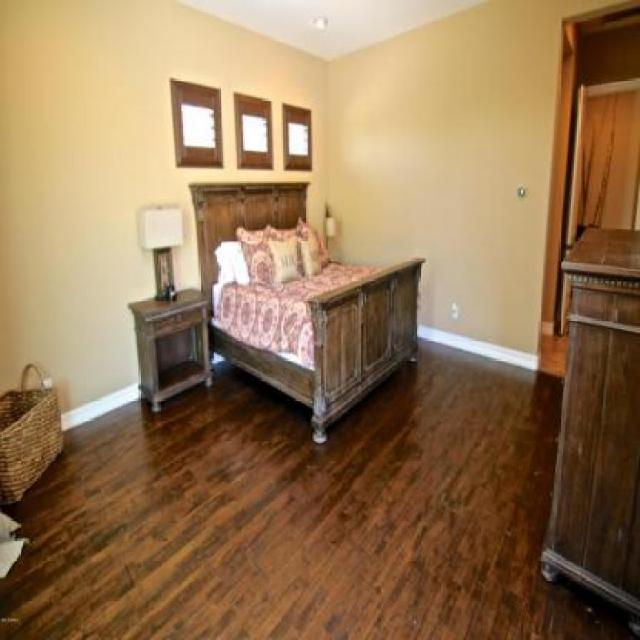Floor: (0, 334, 639, 639)
